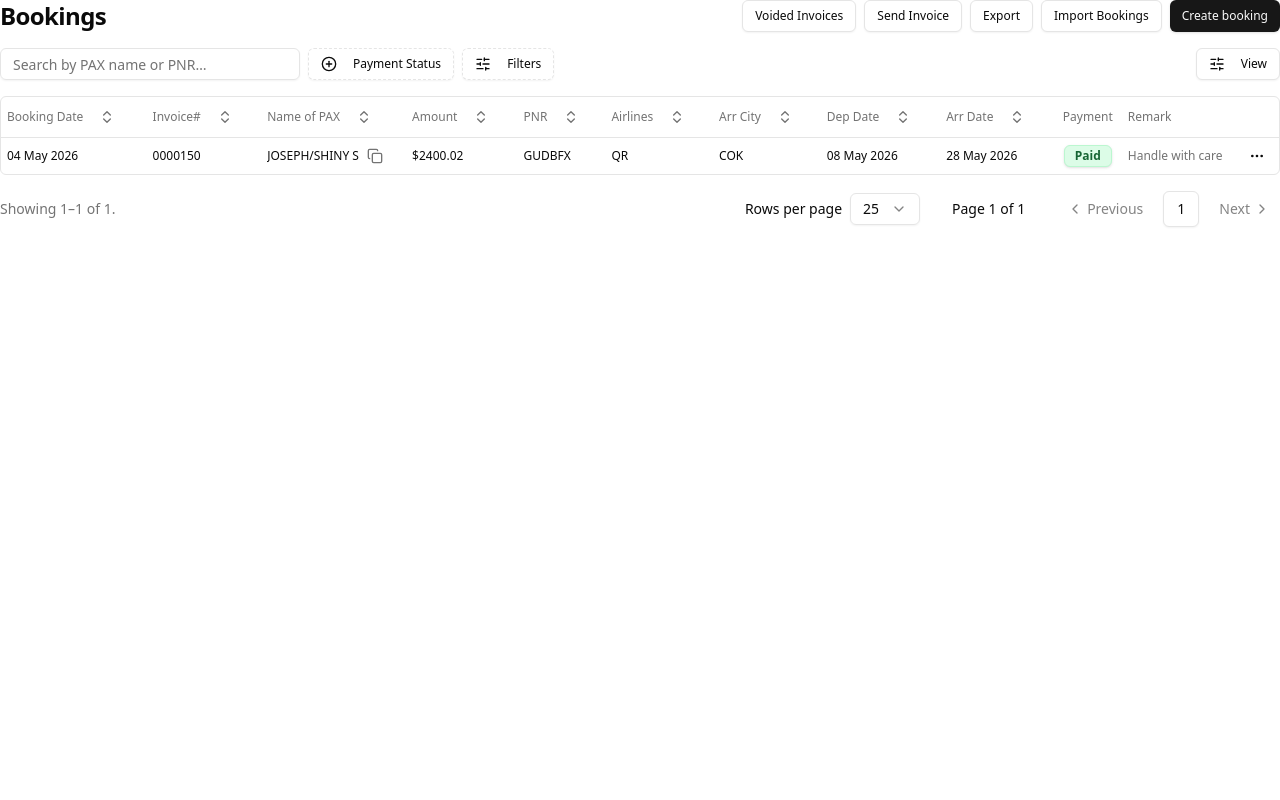
Test: BookingsPage › offers "+ Add new customer" in the passenger autocomplete once 3+ letters are typed
This screenshot has width=1280, height=800.
Click the button "Create booking" at (1225, 16), box [1170, 0, 1279, 32]
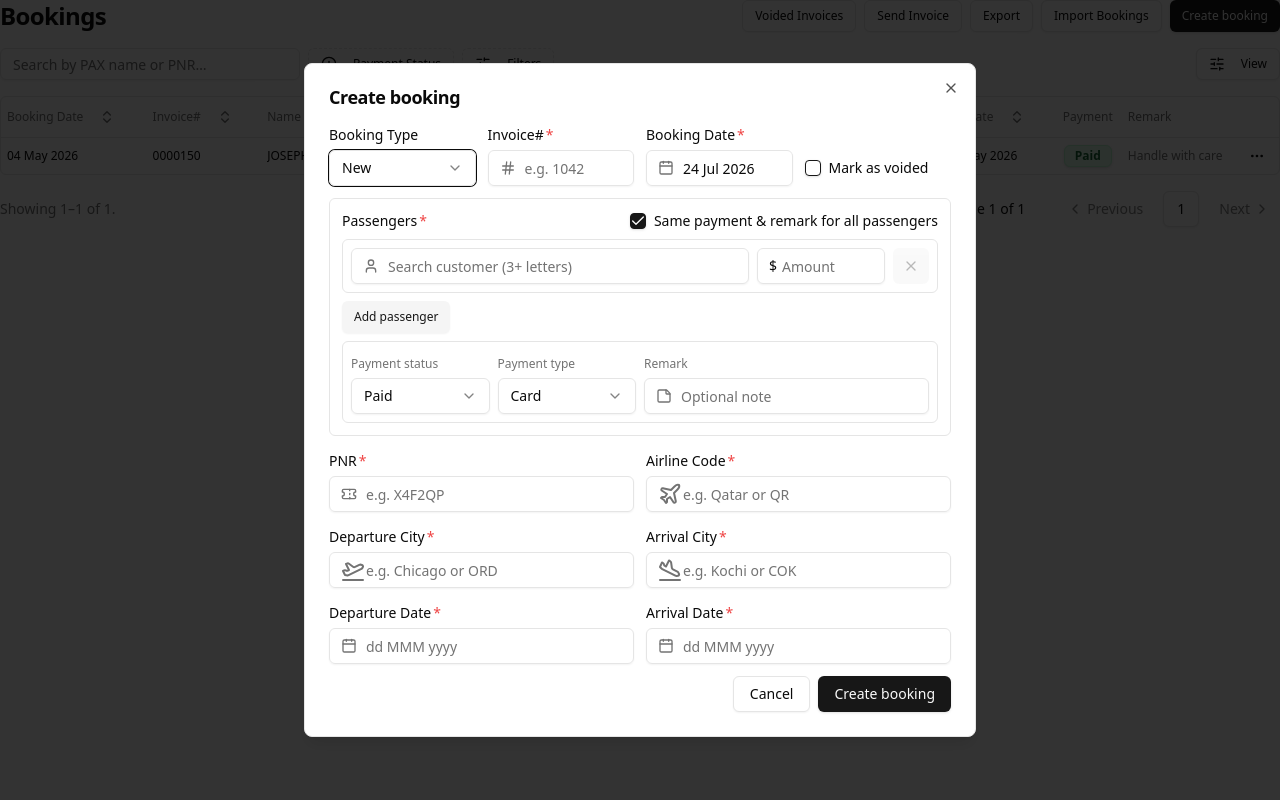
Type "Zed" into the dropdown named "Passenger name" at (550, 266), box [351, 248, 749, 284]
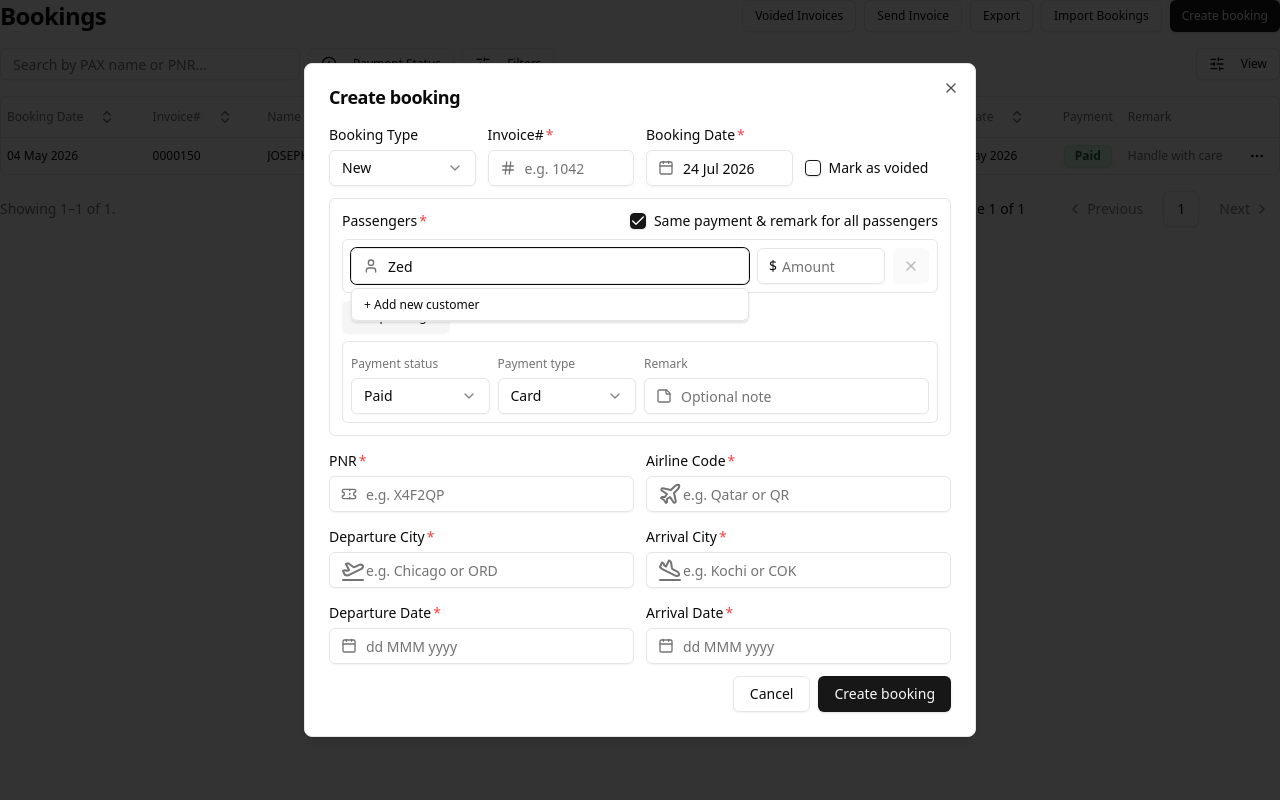
expect the button "+ Add new customer" is shown: met, box [352, 289, 748, 321]
